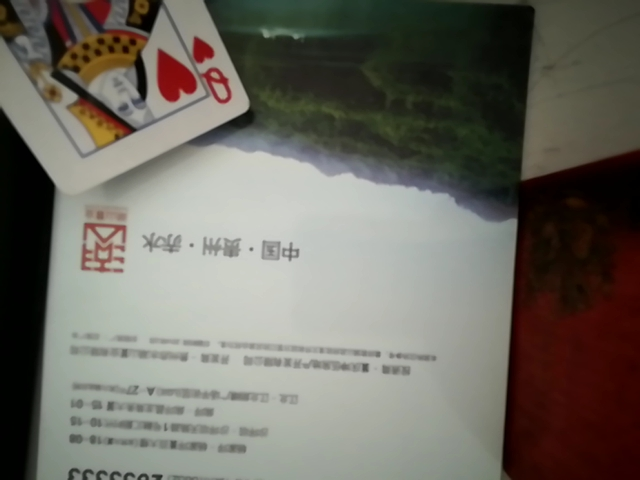hx q: (0, 0, 256, 231)
